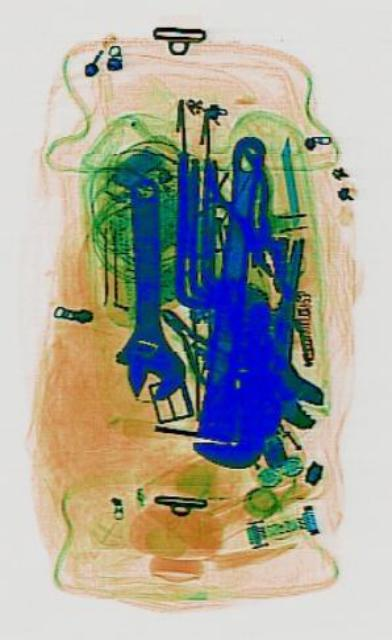Pliers: (198, 125, 299, 295)
Wrench: (108, 175, 183, 401)
